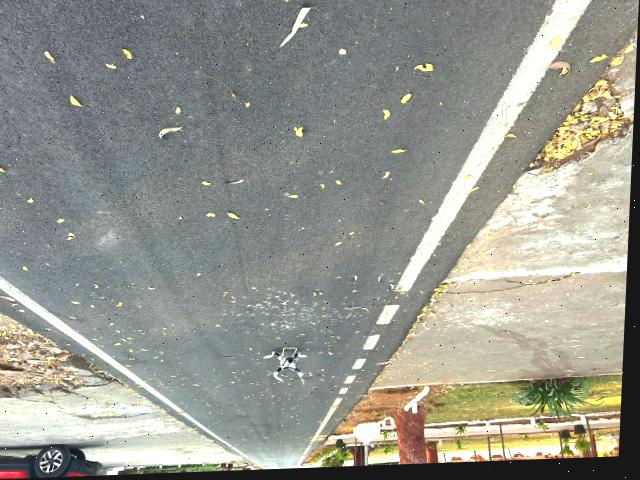drone: (250, 313, 336, 411)
